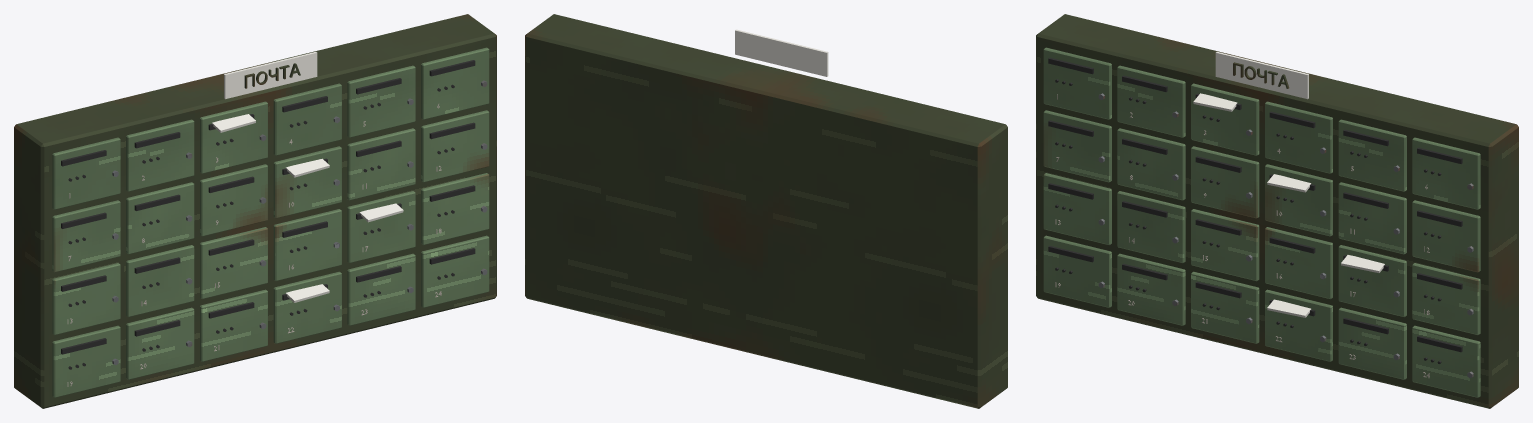
Rendered from mailbox_block.glb.
The picture shows the model from 3 angles, left to right: view 1: azimuth 30°, elevation 25°; view 2: azimuth 150°, elevation 25°; view 3: azimuth 330°, elevation 25°; orthographic projection.
Visible parts, largest first — view 1: mailbox_block; view 2: mailbox_block; view 3: mailbox_block.
Boxes of the visible parts, left/top/right/bottom form: mailbox_block: left=14, top=14, right=496, bottom=408; mailbox_block: left=525, top=14, right=1007, bottom=408; mailbox_block: left=1036, top=14, right=1518, bottom=408.
Size of what is drawn, in the model's own units: 1.98 by 1.21 by 0.2959.
Materials: 6 (4 with a texture image).
